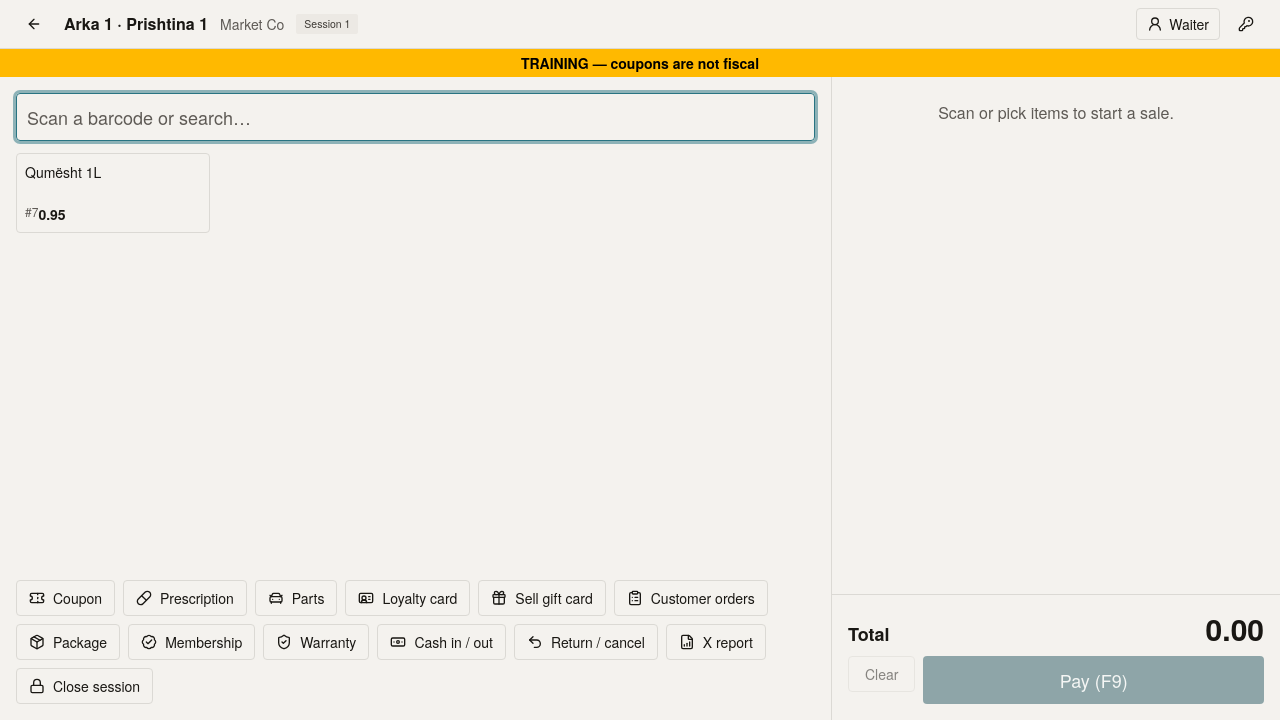
Test case: Till › sells a scanned item for cash and shows the change and a training coupon
Expected: the text "TRAINING — coupons are not fiscal" is shown, [0,49,1279,77]
Scanned twice: one line, quantity 2, priced by the server.
Type "3830001" into the field labelled "Scan a barcode or search…" at (416, 117), box [16,93,815,141]
Press Enter in the field named "Scan a barcode or search…", box [16,93,815,141]
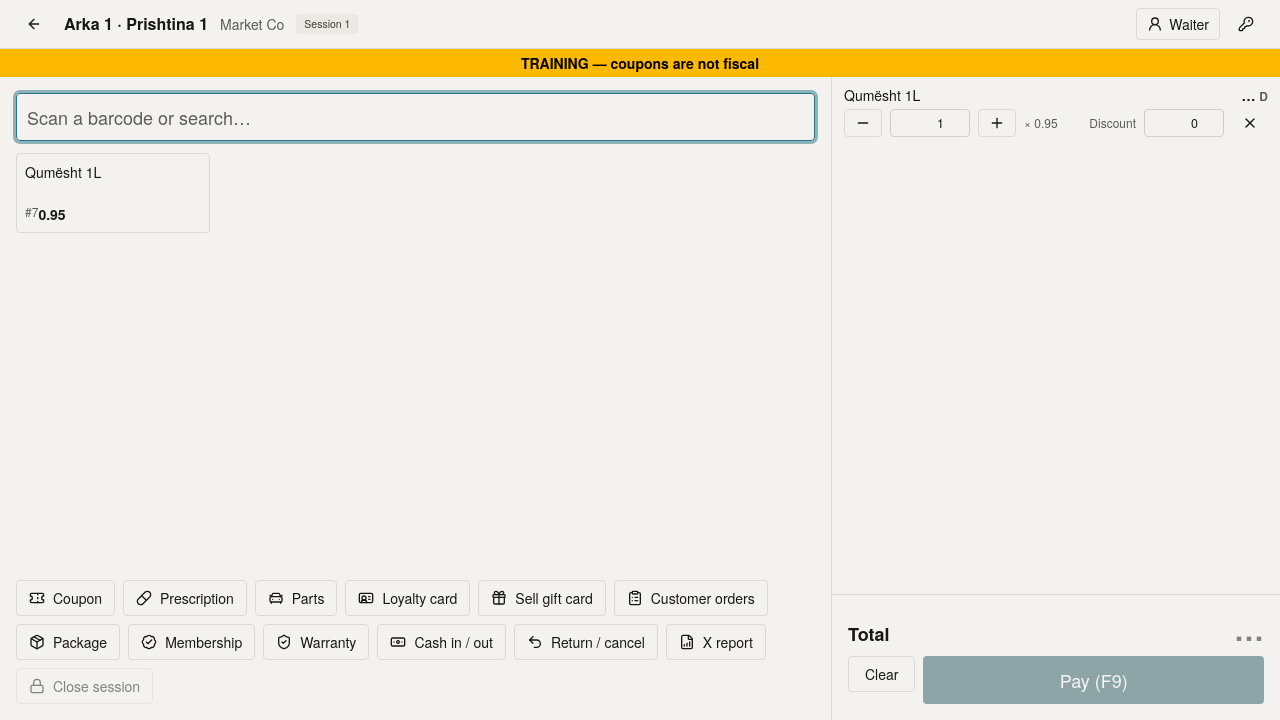
Type "3830001" into the field labelled "Scan a barcode or search…" at (416, 117), box [16,93,815,141]
Press Enter in the field named "Scan a barcode or search…", box [16,93,815,141]
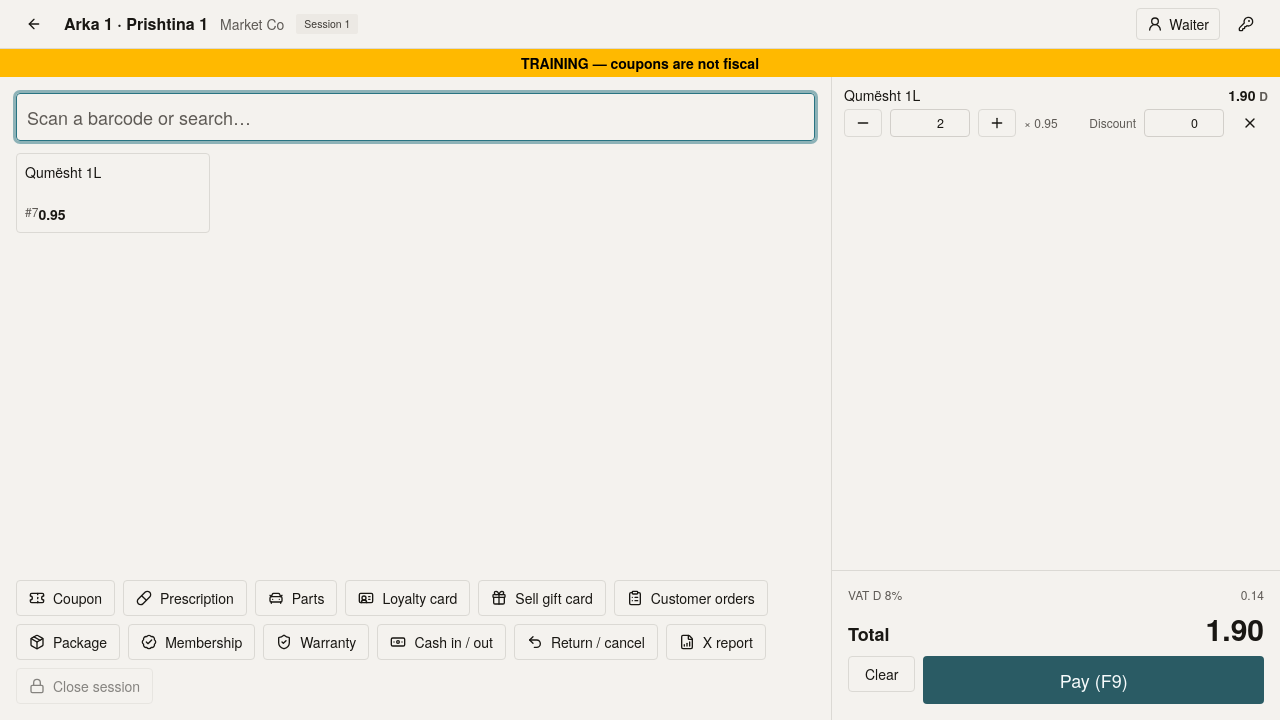
Expected: the text with test id "till-total" reads "1.90", [1206,607,1264,650]
Expected: the number field named "Qty" holds "2", [890,109,970,137]
Click the button "Pay (F9)" at (1094, 680), box [924,656,1264,704]
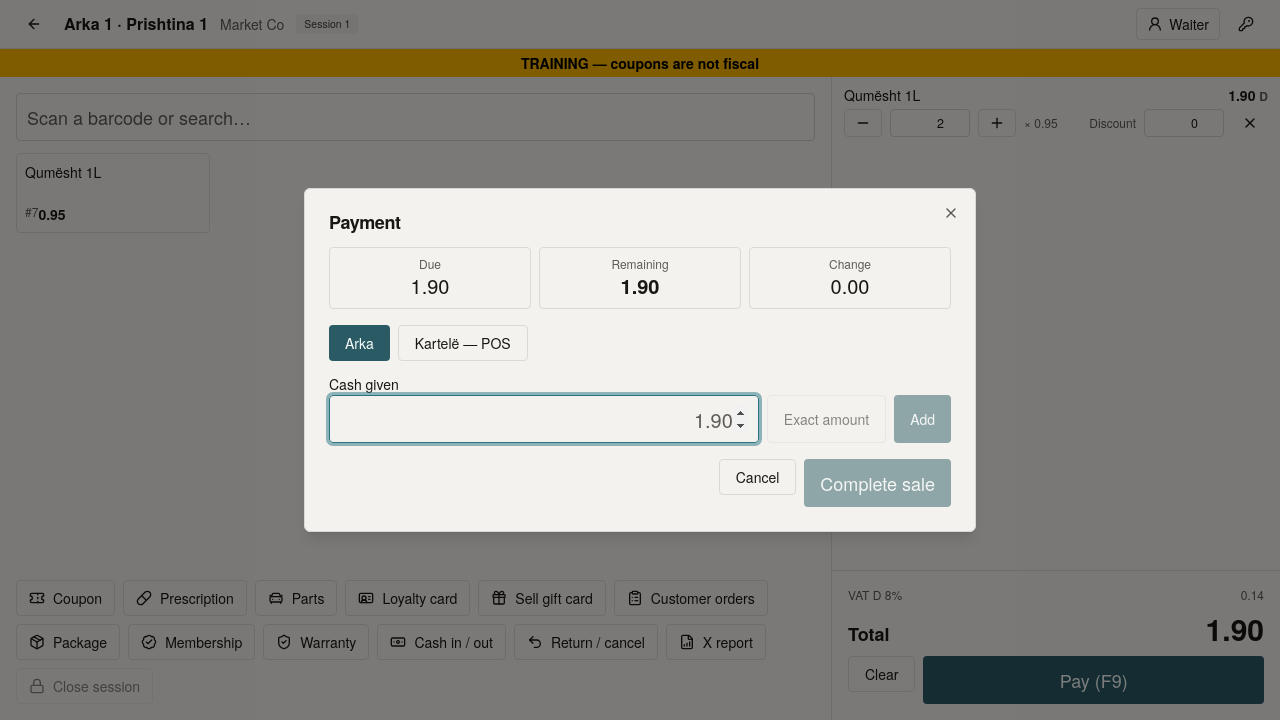
Type "5" into the number field labelled "Cash given" at (544, 419), box [329,395,759,443]
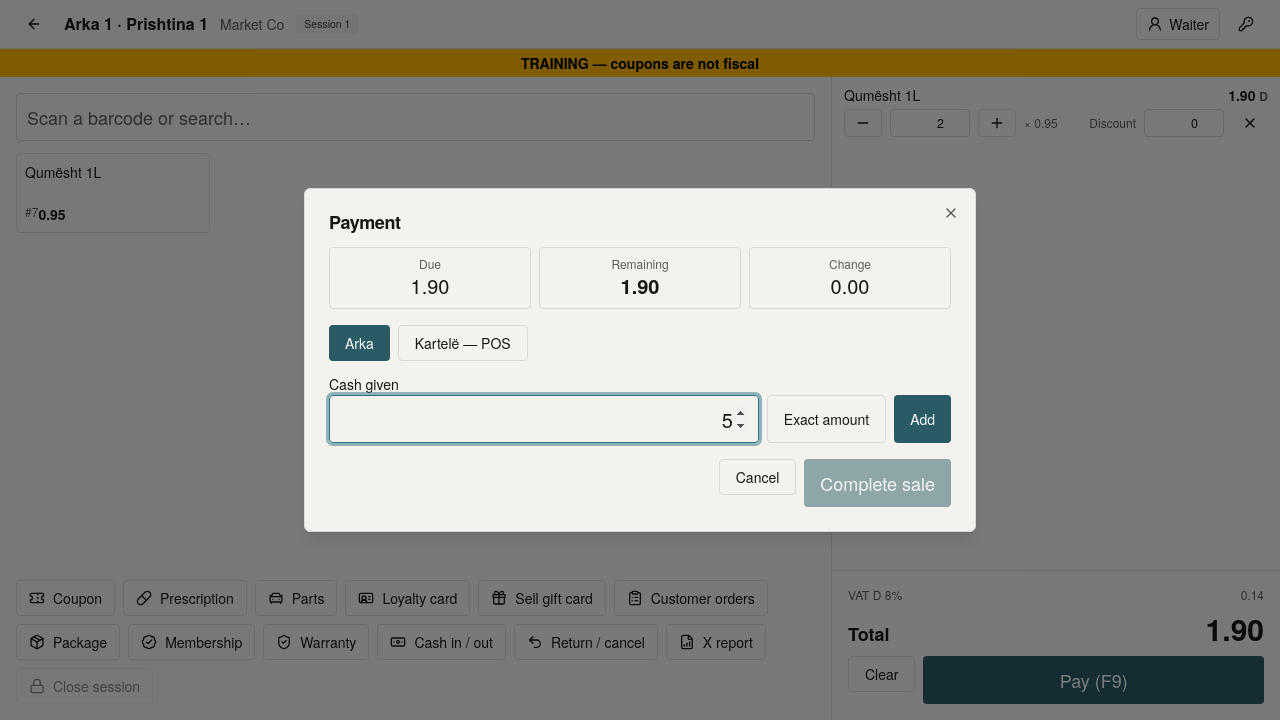
Click the button "Add" at (923, 419), box [894,395,951,443]
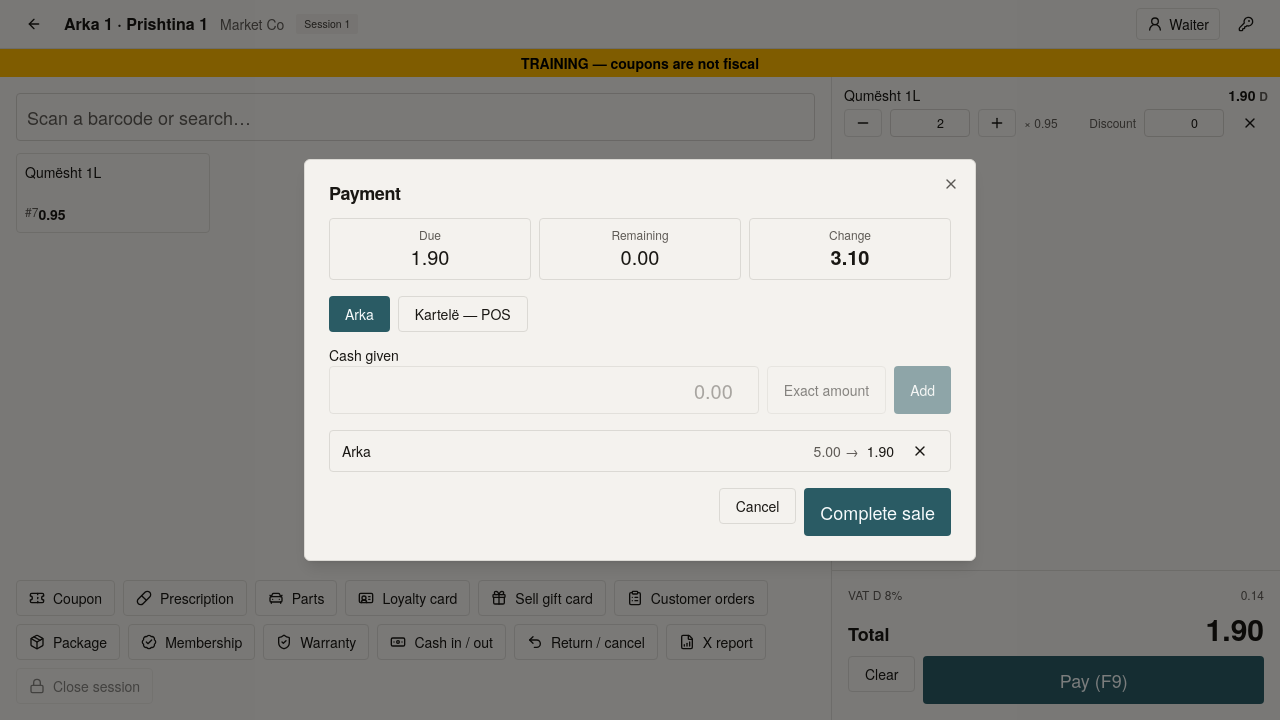
Expected: the button "Complete sale" is enabled
Click the button "Complete sale" at (878, 512), box [804,488,951,536]
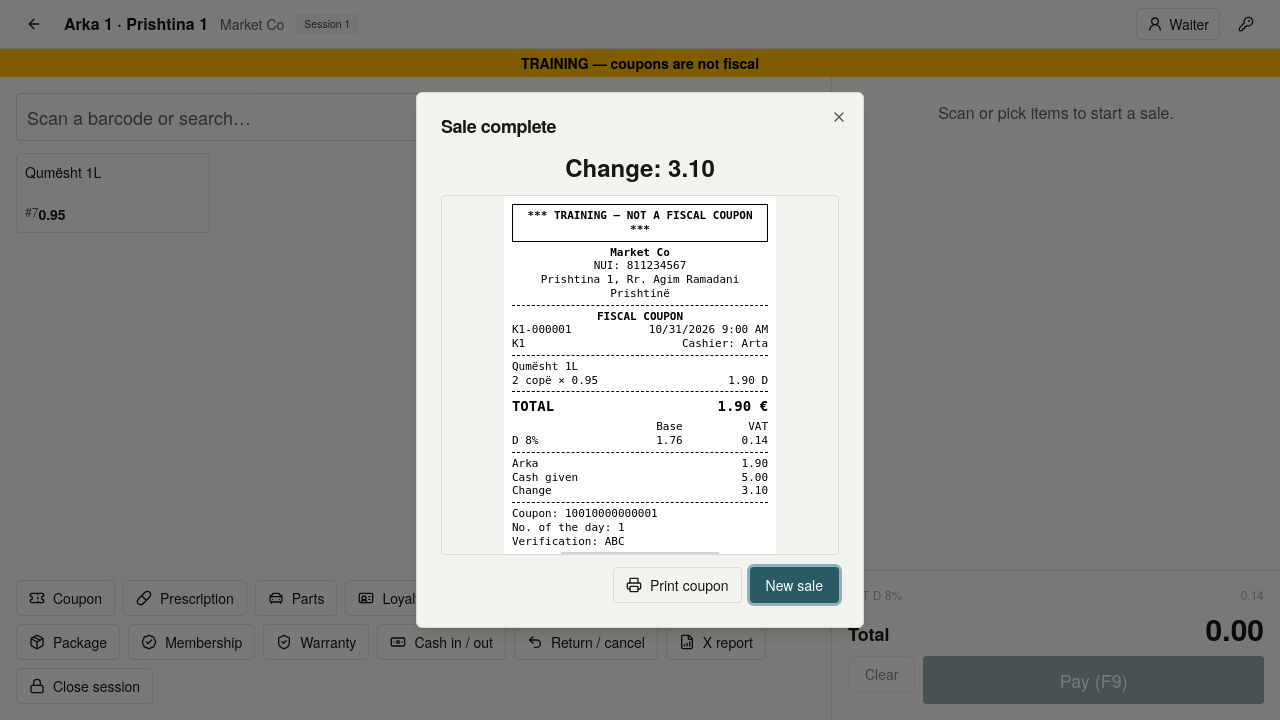
Expected: the text "Change: 3.10" is shown, [565,150,715,184]
Expected: the text "*** TRAINING — NOT A FISCAL COUPON ***" is shown 2 times
Expected: the text "NUI: 811234567" is shown, [594,259,686,272]
